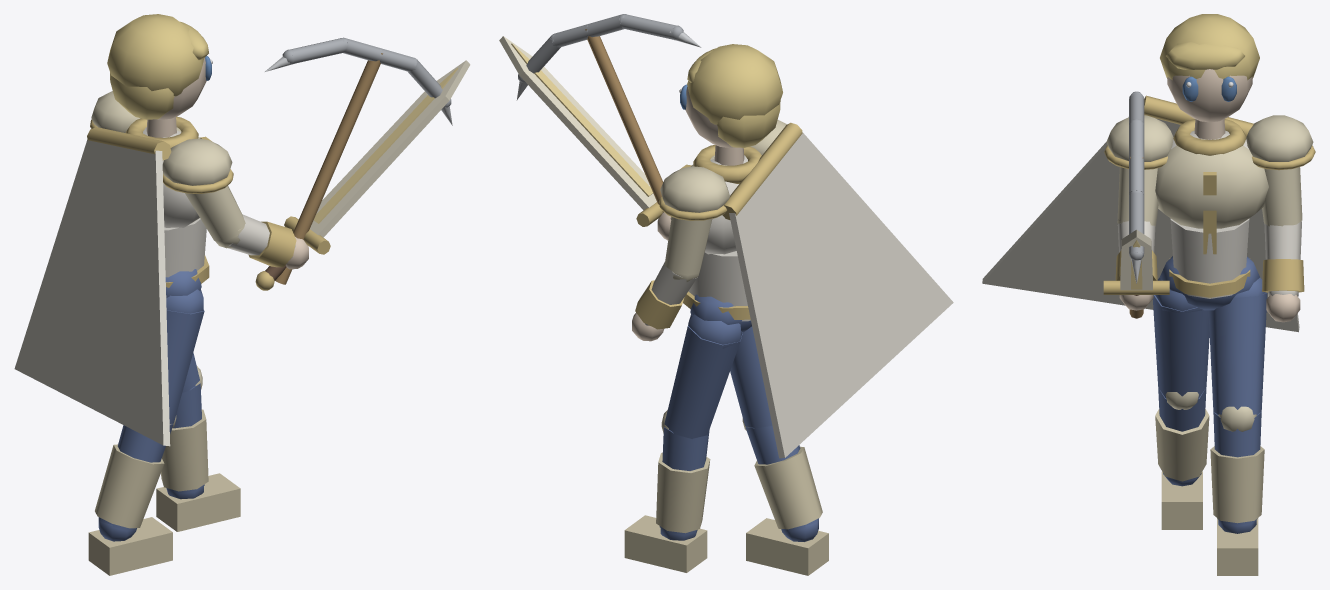
The model's file is hero_3_dawn_knight.glb.
The picture shows the model from 3 angles, left to right: view 1: azimuth 30°, elevation 25°; view 2: azimuth 150°, elevation 25°; view 3: azimuth 270°, elevation 25°; orthographic projection.
Visible parts, largest first — view 1: Cape, LegR, Torso, Head, LegL, Weapon, Pickaxe, ArmR; view 2: Cape, LegL, LegR, Torso, Head, Weapon, Pickaxe, ArmL; view 3: Torso, Cape, LegL, LegR, Head, ArmL, Pickaxe, ArmR, Weapon.
Part boxes in pixels (box(x1,y1,x2,y2)): Cape: box(14, 127, 171, 446); LegR: box(88, 289, 204, 575); Torso: box(90, 91, 233, 297); Head: box(107, 14, 212, 119); LegL: box(156, 353, 240, 531); Weapon: box(255, 60, 470, 290); Pickaxe: box(265, 37, 452, 284); ArmR: box(185, 186, 308, 269); Cape: box(722, 122, 953, 458); LegL: box(624, 314, 742, 572); LegR: box(730, 326, 828, 575); Torso: box(659, 120, 786, 332); Head: box(679, 44, 782, 147); Weapon: box(499, 36, 662, 226); Pickaxe: box(516, 14, 701, 212); ArmL: box(632, 217, 712, 341); Torso: box(1104, 115, 1315, 310); Cape: box(982, 95, 1299, 332); LegL: box(1208, 277, 1267, 575); LegR: box(1152, 277, 1209, 529); Head: box(1160, 14, 1259, 122); ArmL: box(1262, 167, 1304, 322); Pickaxe: box(1129, 91, 1144, 318); ArmR: box(1115, 167, 1158, 310); Weapon: box(1103, 229, 1169, 295).
Size of the model in its own units: 2 by 2.59 by 1.52.
